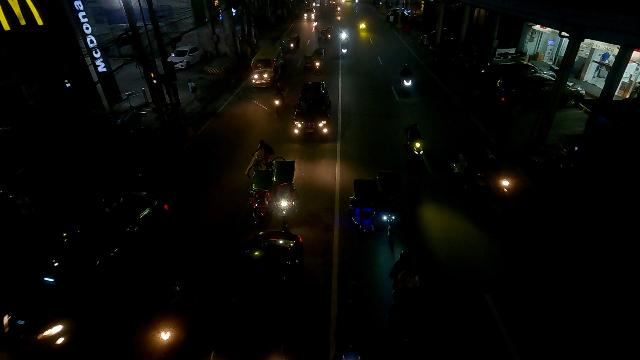car: (293, 80, 332, 138), (318, 25, 335, 44), (303, 10, 315, 24)
jeepney: (251, 44, 283, 87)
motorcycle: (405, 122, 425, 160), (399, 64, 414, 93)
